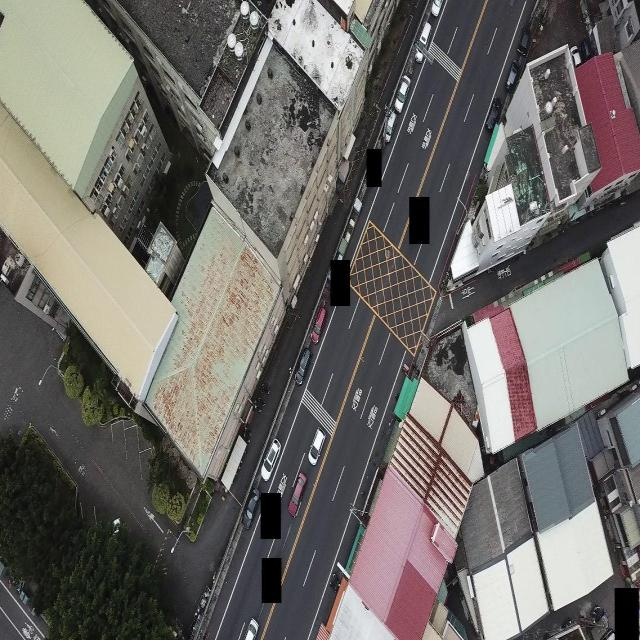car: (263, 439, 283, 482), (290, 471, 308, 517), (416, 21, 432, 62), (296, 348, 313, 386), (308, 428, 325, 464), (312, 305, 328, 343), (486, 96, 502, 134), (395, 77, 410, 114), (506, 59, 523, 91), (244, 493, 259, 529), (516, 24, 532, 53), (384, 110, 397, 142), (580, 37, 593, 69), (242, 618, 260, 640), (570, 44, 582, 74), (111, 517, 121, 547), (430, 0, 446, 16)
